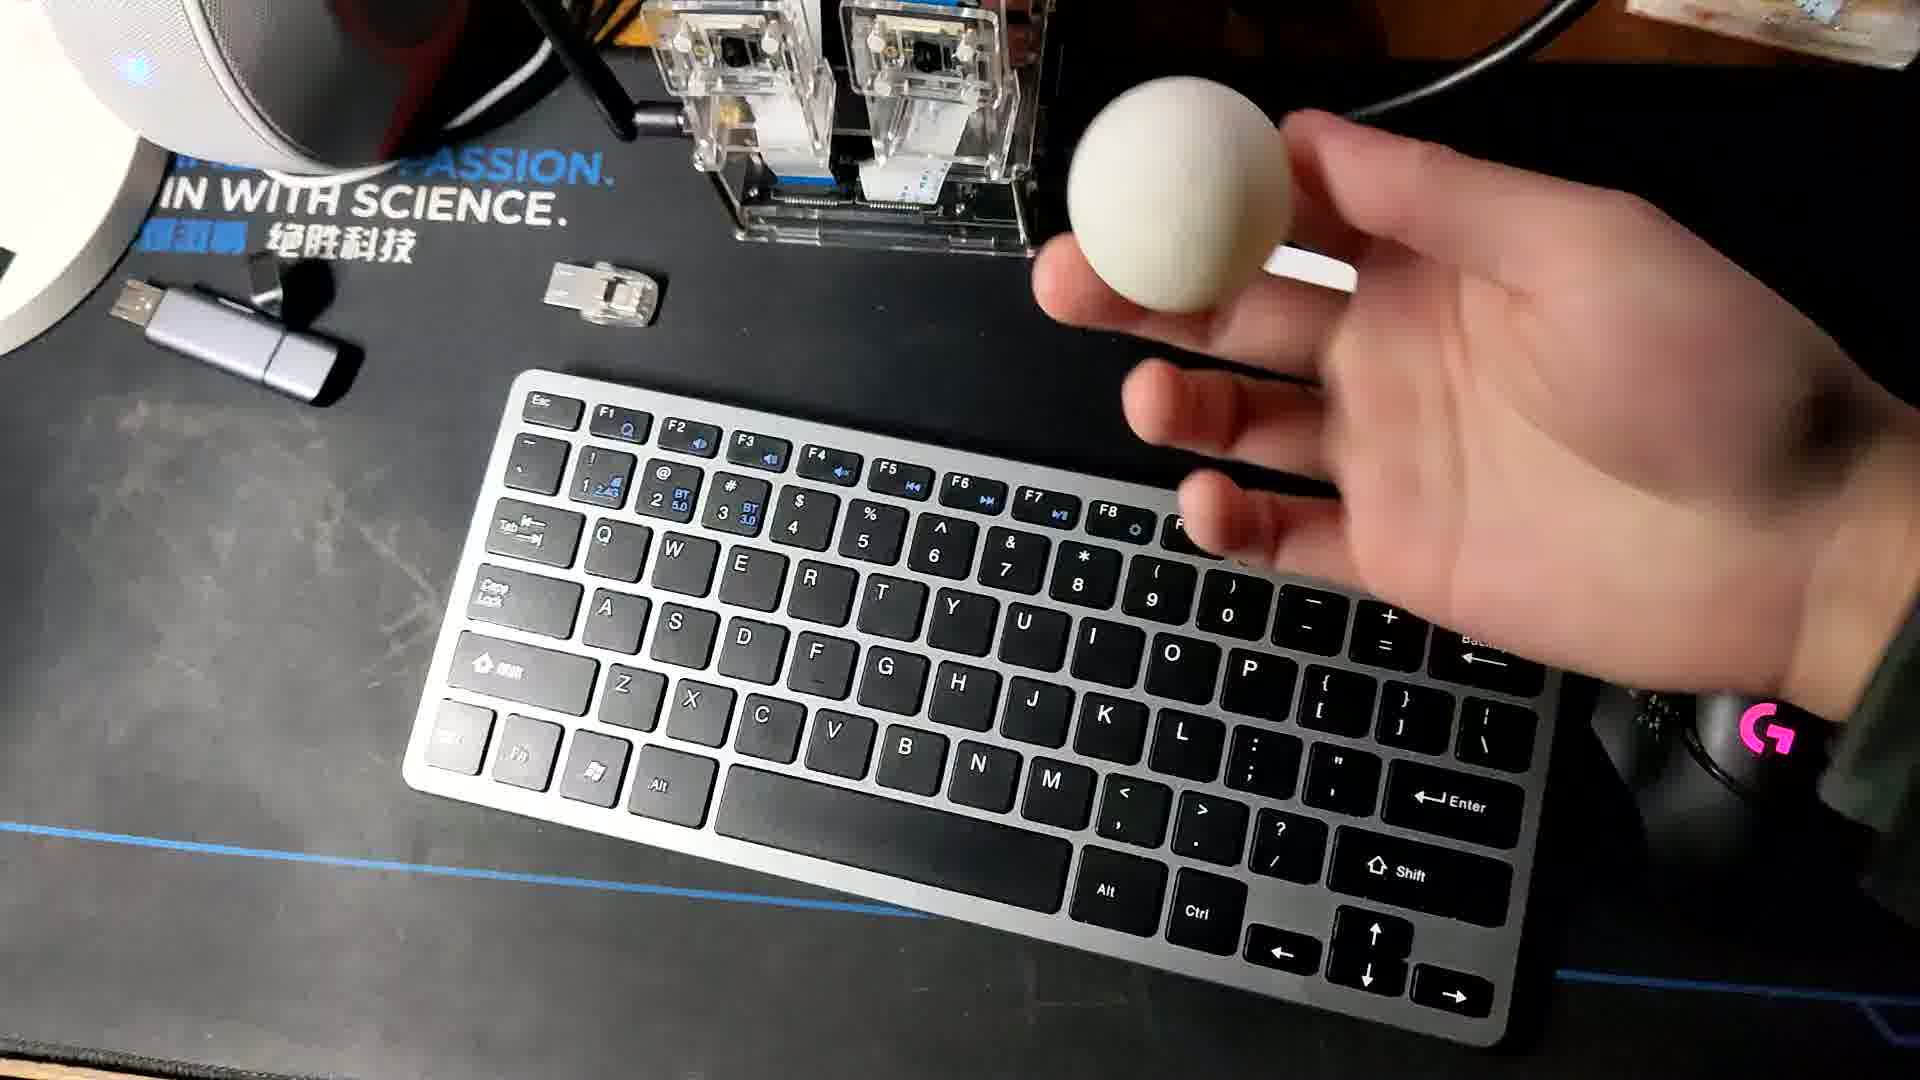Ball: (1064, 80, 1284, 309)
